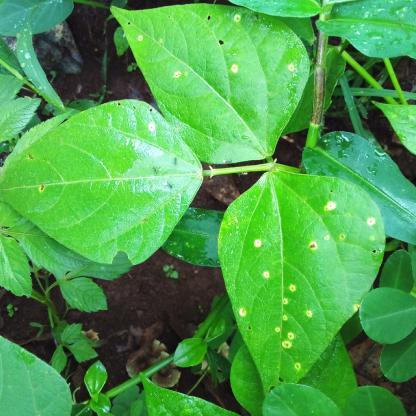Beans_Rust: (215, 172, 377, 376), (1, 102, 201, 260), (107, 10, 312, 162)
